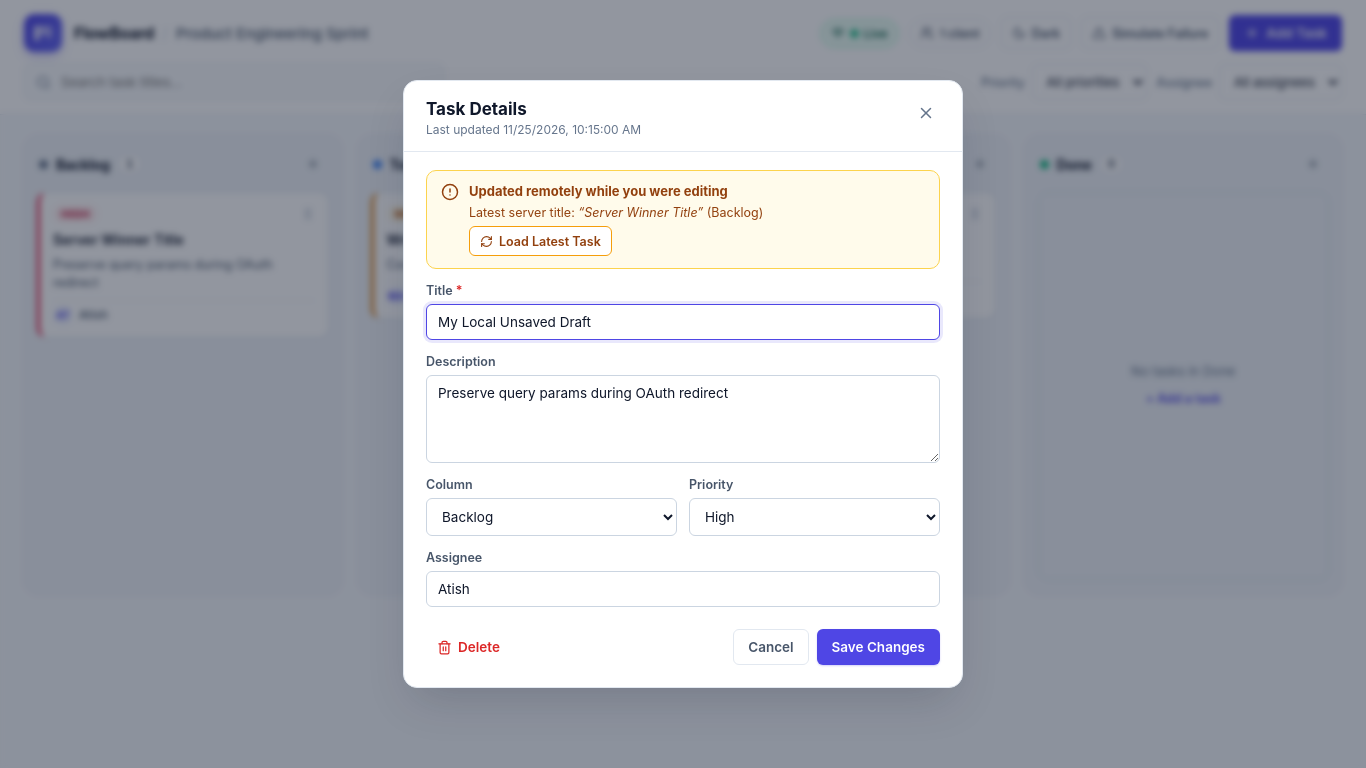
Scenario: BoardPage UI, URL restoration, concurrency, and rollback › preserves unsaved modal draft on remote SSE update and resolves 409 conflicts
Earlier steps of the test are not shown.
Expected: the field labelled "Title *" holds "My Local Unsaved Draft", [426,304,940,340]
Expected: the text "Updated remotely while you were editing" is shown, [469,183,728,199]
Step 1. Click the button "Save Changes" → {"x": 878, "y": 647}, box [817,629,940,665]
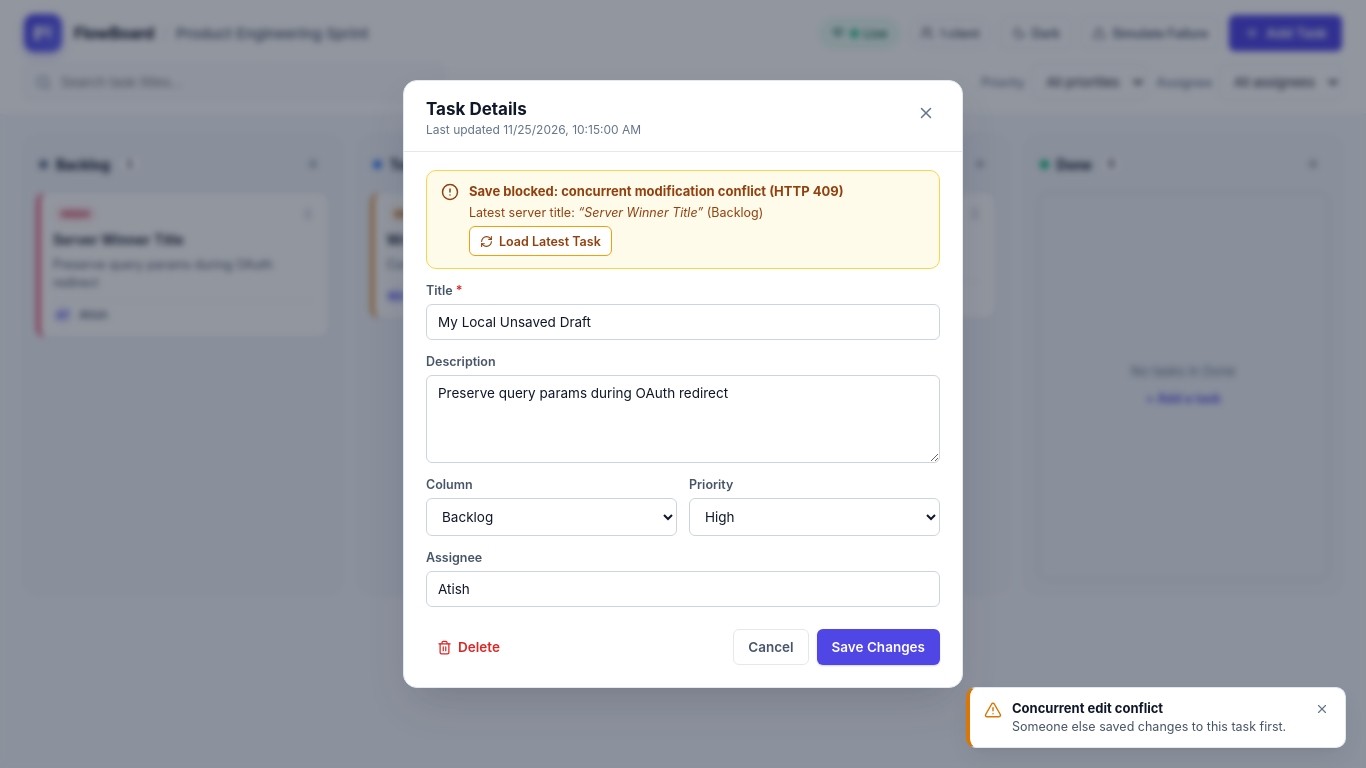
Now the text "Save blocked: concurrent modification conflict (HTTP 409)" is shown, box [469,183,844,199]
Step 2. Click the button "Load Latest Task" → {"x": 540, "y": 241}, box [469,226,612,256]
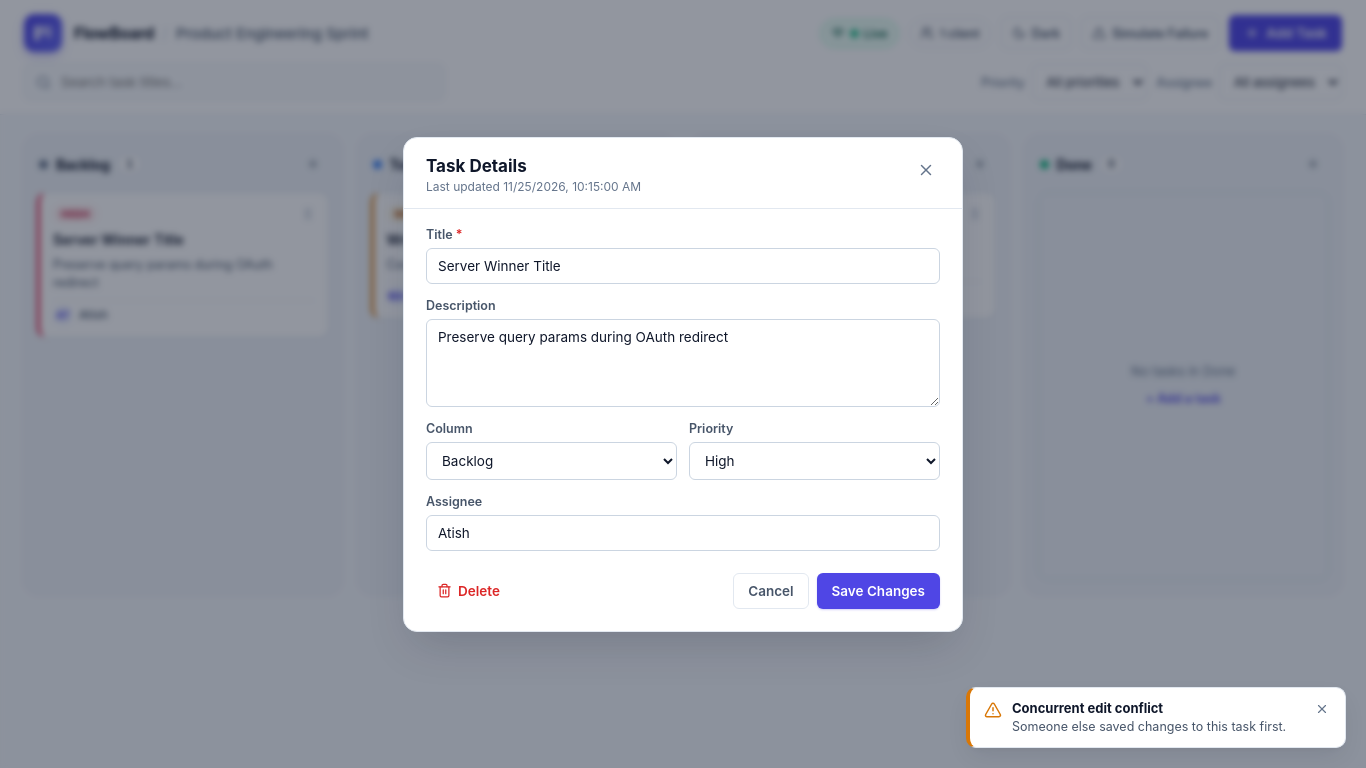
Now the field labelled "Title *" holds "Server Winner Title", box [426,248,940,284]
